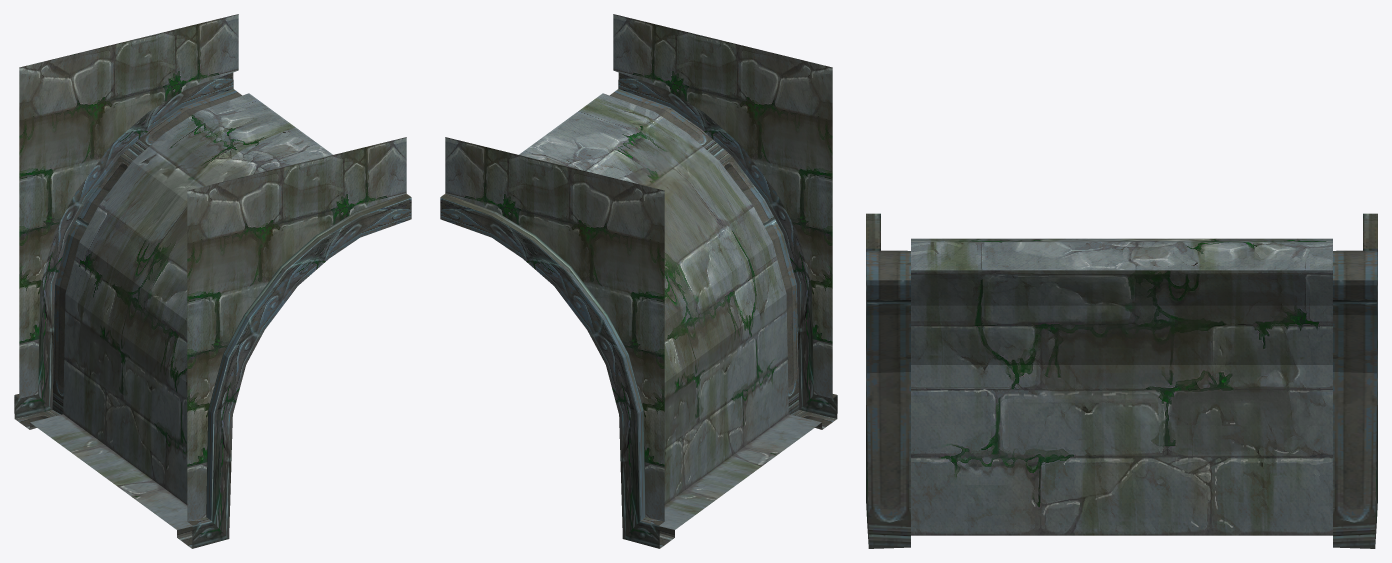
File: stemple_bridgesmall_transition_02.fbx
3 views of the same model, side by side, from view 1: azimuth 30°, elevation 25°; view 2: azimuth 150°, elevation 25°; view 3: azimuth 270°, elevation 25° (orthographic). The views are drawn at different scales.
Visible parts, largest first — view 1: obj2; view 2: obj2; view 3: obj2.
Boxes of the visible parts, bbox=[...] form: obj2: bbox=[14, 14, 411, 548]; obj2: bbox=[440, 14, 837, 548]; obj2: bbox=[866, 213, 1377, 548].
Bounding box in the file's own units: 3.63 × 5.62 × 5.12.
